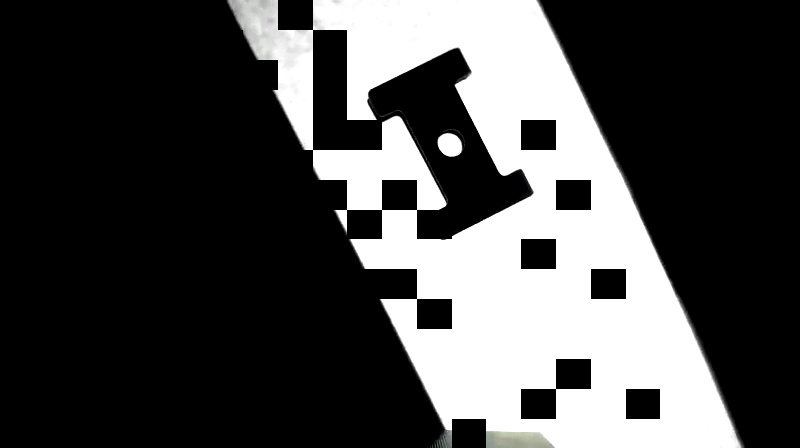O002: (365, 46, 537, 242)
